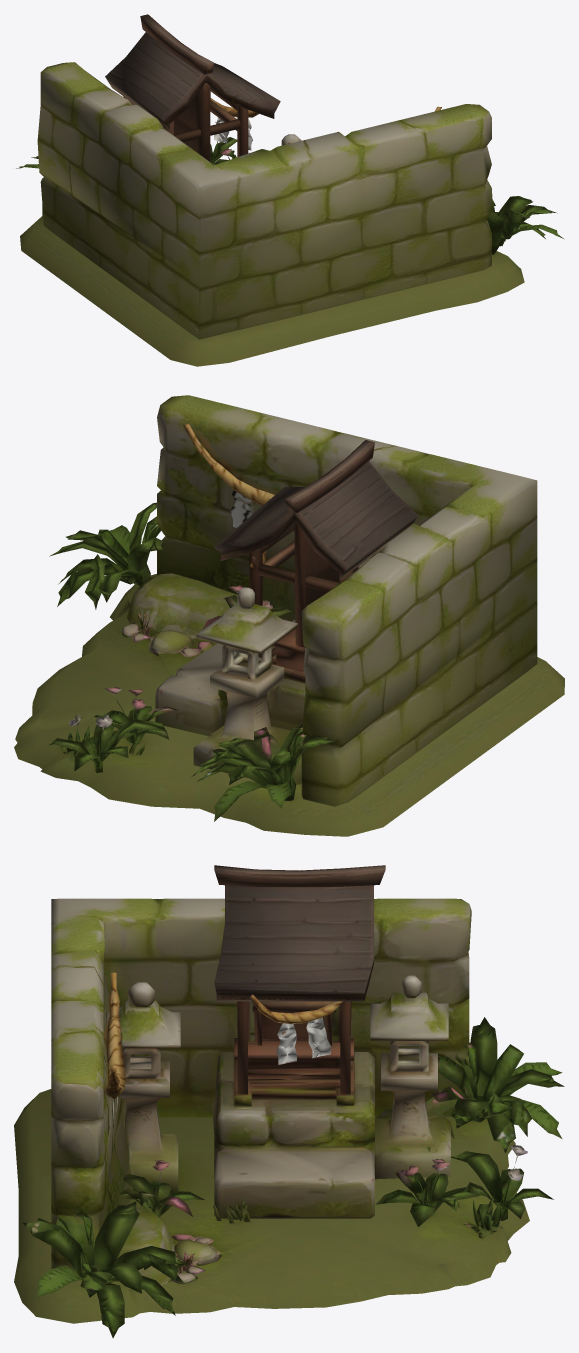
The model's file is roadside_shrine_corner.glb.
3 views of the same model, one above another, from view 1: azimuth 30°, elevation 25°; view 2: azimuth 150°, elevation 25°; view 3: azimuth 270°, elevation 25° (orthographic). The views are drawn at different scales.
Parts seen in each view (by area): view 1: tripo_node_57e1ec8e-51e7-4117-9d3d-f7e7f7f542e1; view 2: tripo_node_57e1ec8e-51e7-4117-9d3d-f7e7f7f542e1; view 3: tripo_node_57e1ec8e-51e7-4117-9d3d-f7e7f7f542e1.
Part boxes in pixels (bbox=[...]): tripo_node_57e1ec8e-51e7-4117-9d3d-f7e7f7f542e1: bbox=[16, 14, 564, 366]; tripo_node_57e1ec8e-51e7-4117-9d3d-f7e7f7f542e1: bbox=[14, 395, 564, 836]; tripo_node_57e1ec8e-51e7-4117-9d3d-f7e7f7f542e1: bbox=[14, 865, 564, 1337].
Bounding box in the file's own units: 0.998 × 0.5449 × 0.9238.
1 material, 1 textured.
